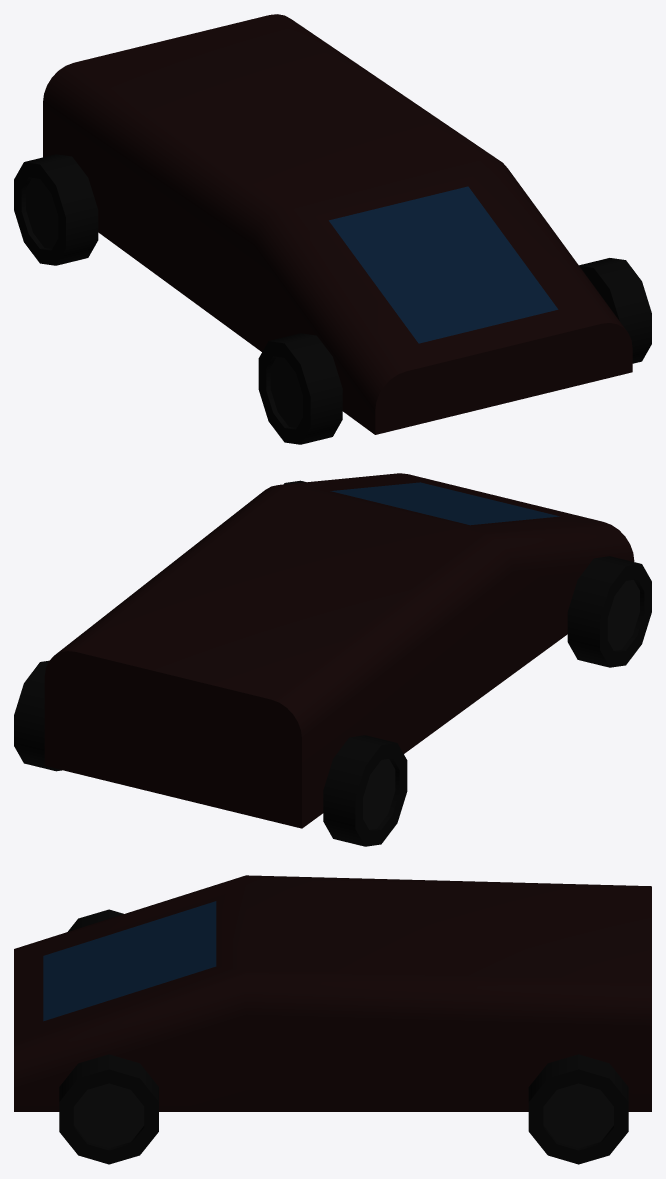
The model's file is Car.fbx.
3 views of the same model, one above another, from view 1: azimuth 30°, elevation 25°; view 2: azimuth 150°, elevation 25°; view 3: azimuth 270°, elevation 25° (orthographic). The views are drawn at different scales.
Parts seen in each view (by area): view 1: Body, Wheel_Front_Left, Wheel_Back_Left, Wheel_Front_Right; view 2: Body, Wheel_Front_Left, Wheel_Back_Left, Wheel_Back_Right; view 3: Body, Wheel_Back_Right, Wheel_Front_Right, Wheel_Front_Left.
Boxes of the visible parts, bbox=[...] form: Body: bbox=[43, 14, 632, 434]; Wheel_Front_Left: bbox=[258, 333, 342, 444]; Wheel_Back_Left: bbox=[14, 154, 98, 265]; Wheel_Front_Right: bbox=[579, 258, 651, 363]; Body: bbox=[44, 473, 634, 828]; Wheel_Front_Left: bbox=[567, 556, 651, 667]; Wheel_Back_Left: bbox=[323, 735, 407, 846]; Wheel_Back_Right: bbox=[14, 660, 61, 771]; Body: bbox=[14, 875, 651, 1111]; Wheel_Back_Right: bbox=[528, 1054, 628, 1164]; Wheel_Front_Right: bbox=[59, 1054, 158, 1164]; Wheel_Front_Left: bbox=[68, 909, 123, 931].
Bounding box in the file's own units: 191 × 89 × 322.
